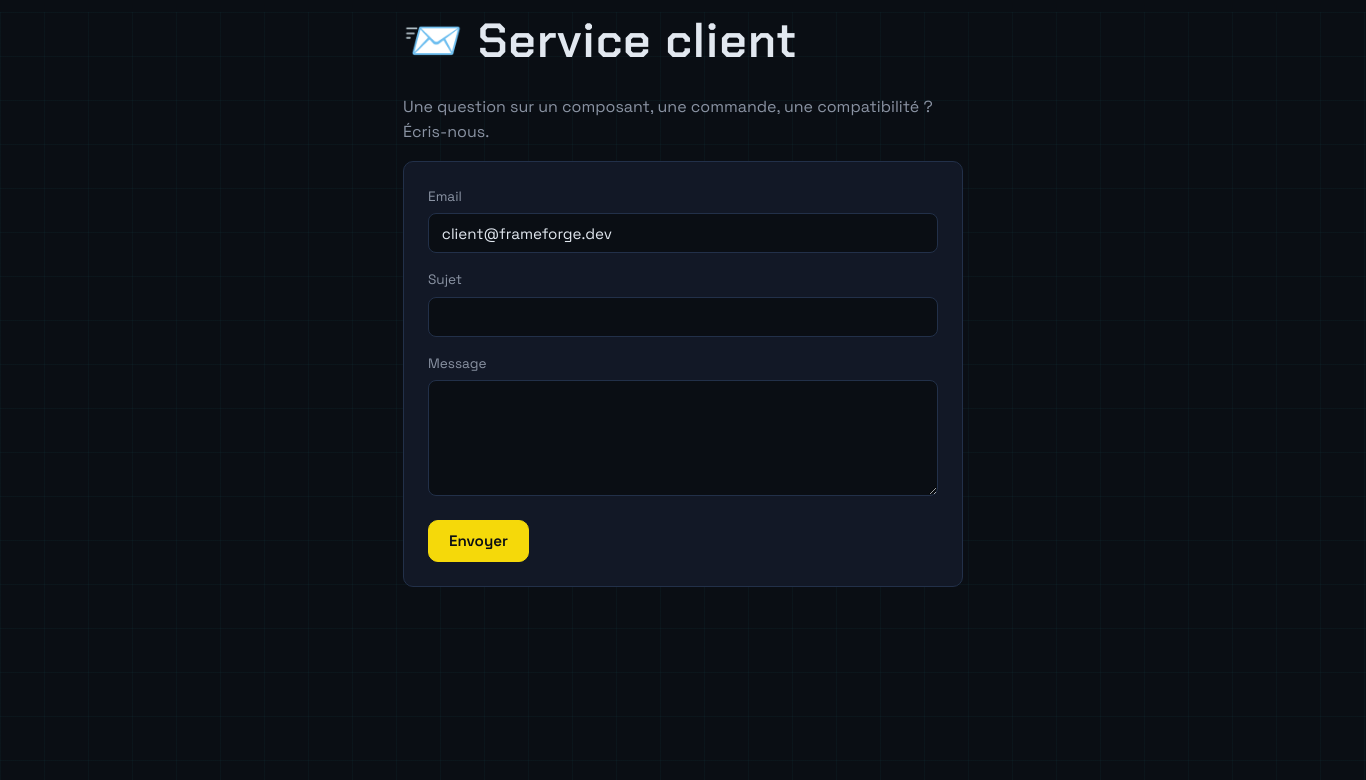
Contact › conserve le formulaire, annonce l’erreur puis l’efface à la correction
The image size is (1366, 780).
Type "Aide" into the field labelled "Sujet". click: [683, 317]
box: [428, 297, 938, 337]
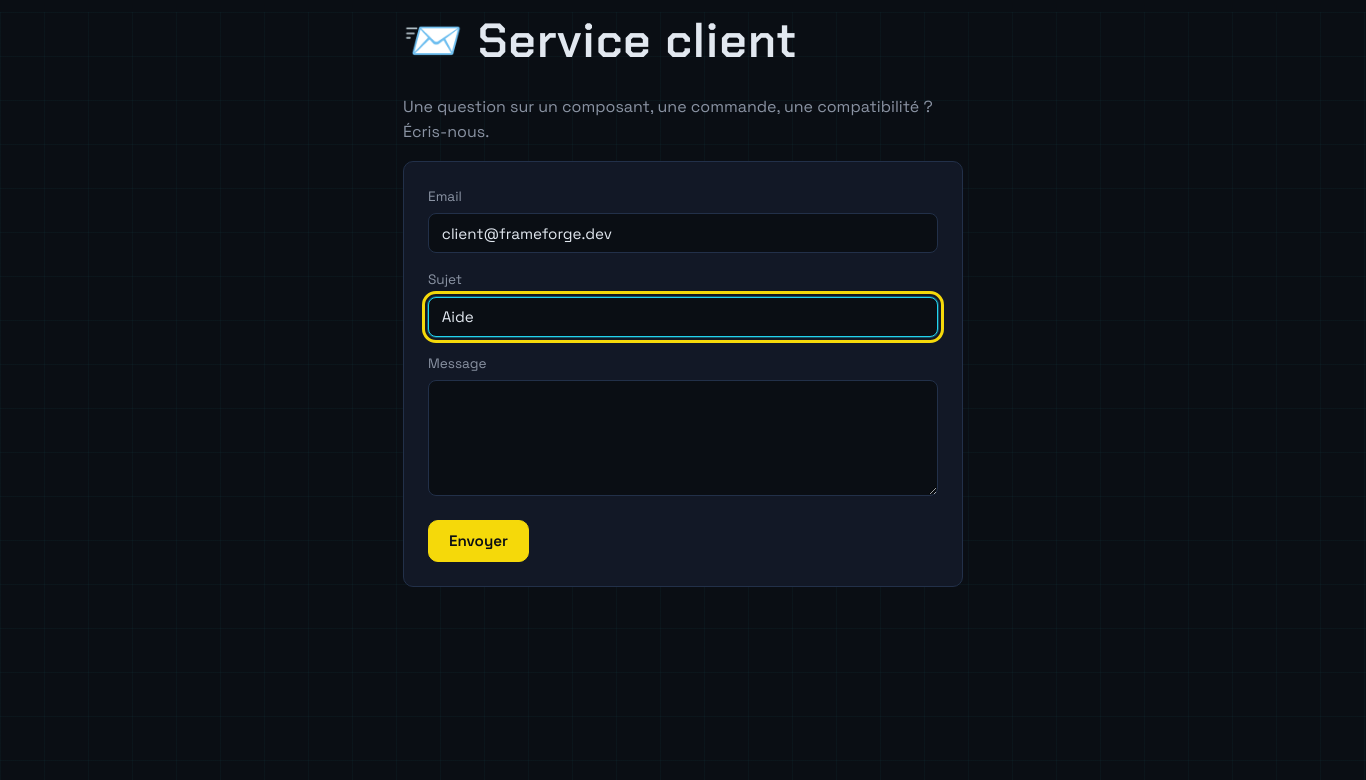
Type "Mon message important" into the text box labelled "Message". click: [683, 438]
box: [428, 380, 938, 496]
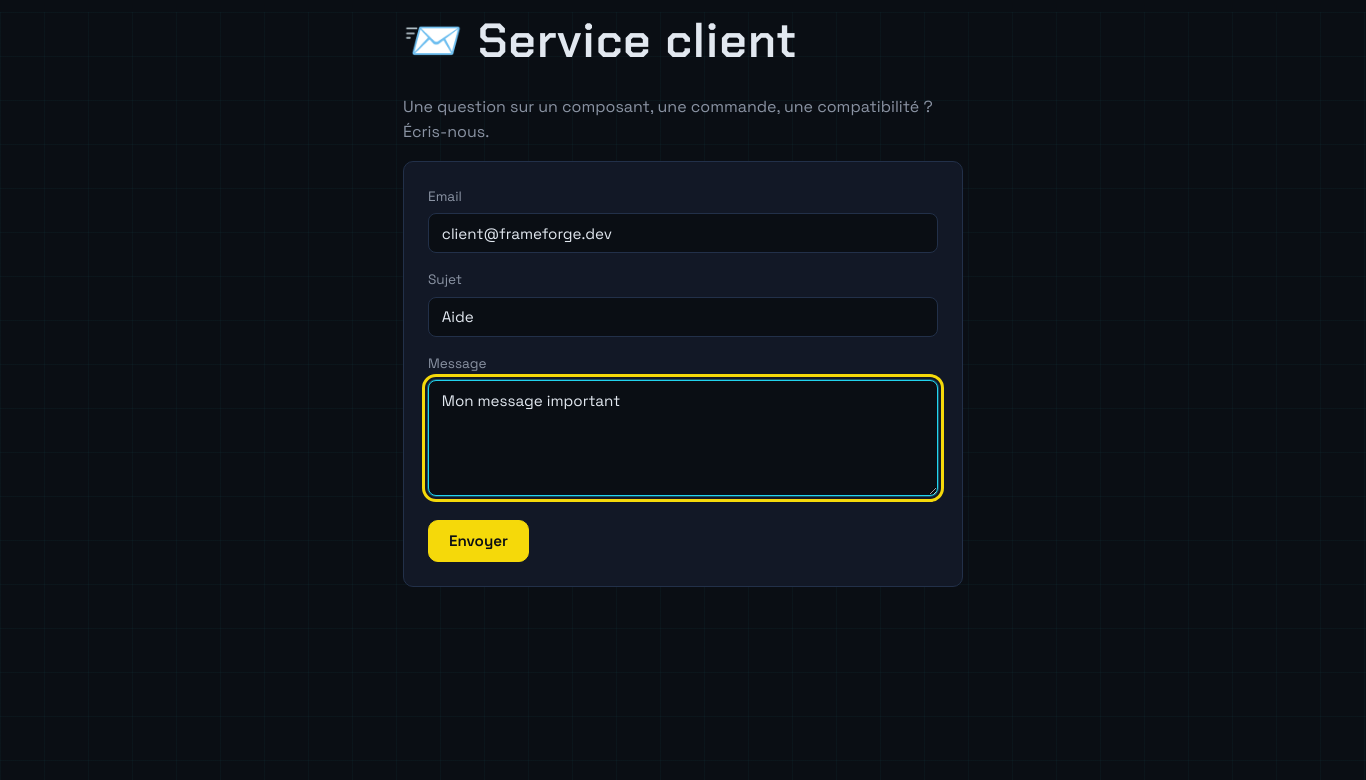
Click the button "Envoyer". click: [478, 541]
box: [428, 520, 529, 562]
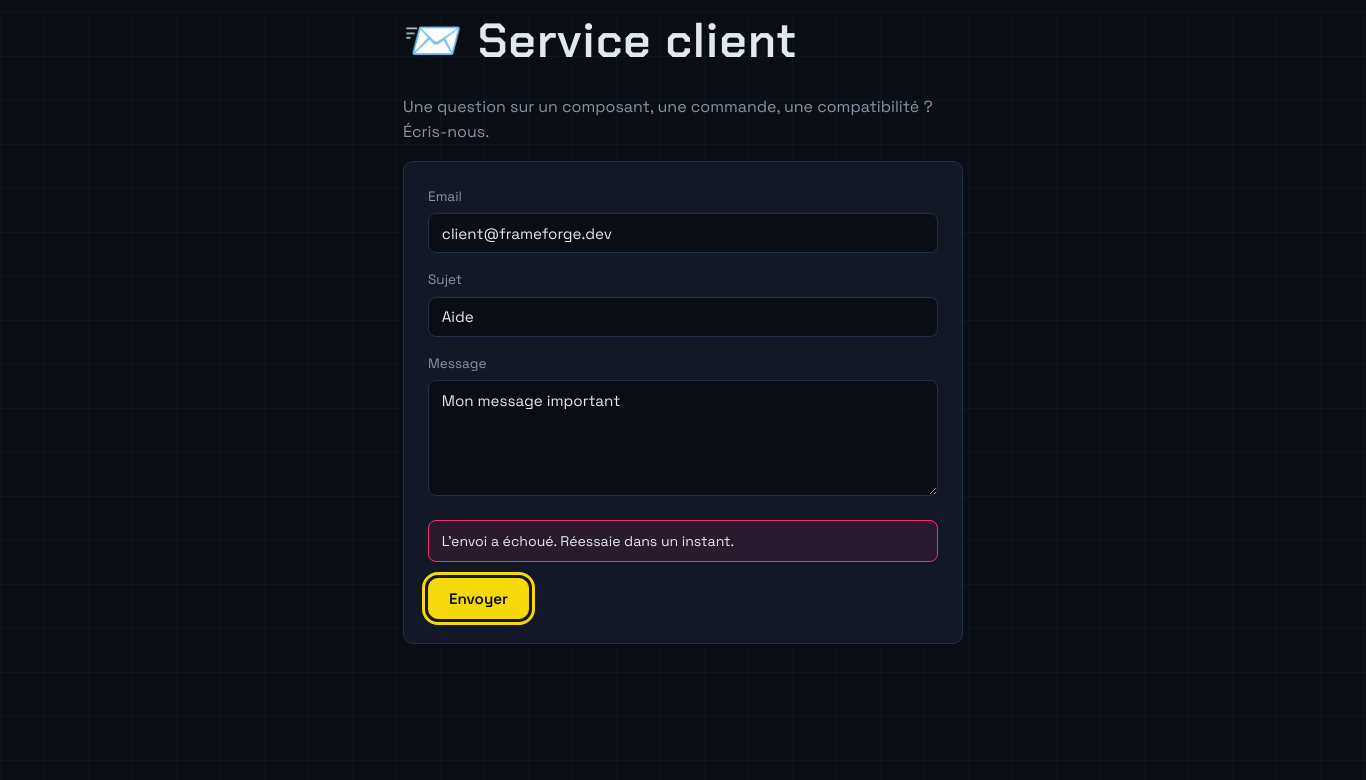
Now the message shows "L'envoi a échoué", box [442, 532, 734, 550]
Type " corrigé" into the field labelled "Sujet". click: [683, 317]
box: [428, 297, 938, 337]
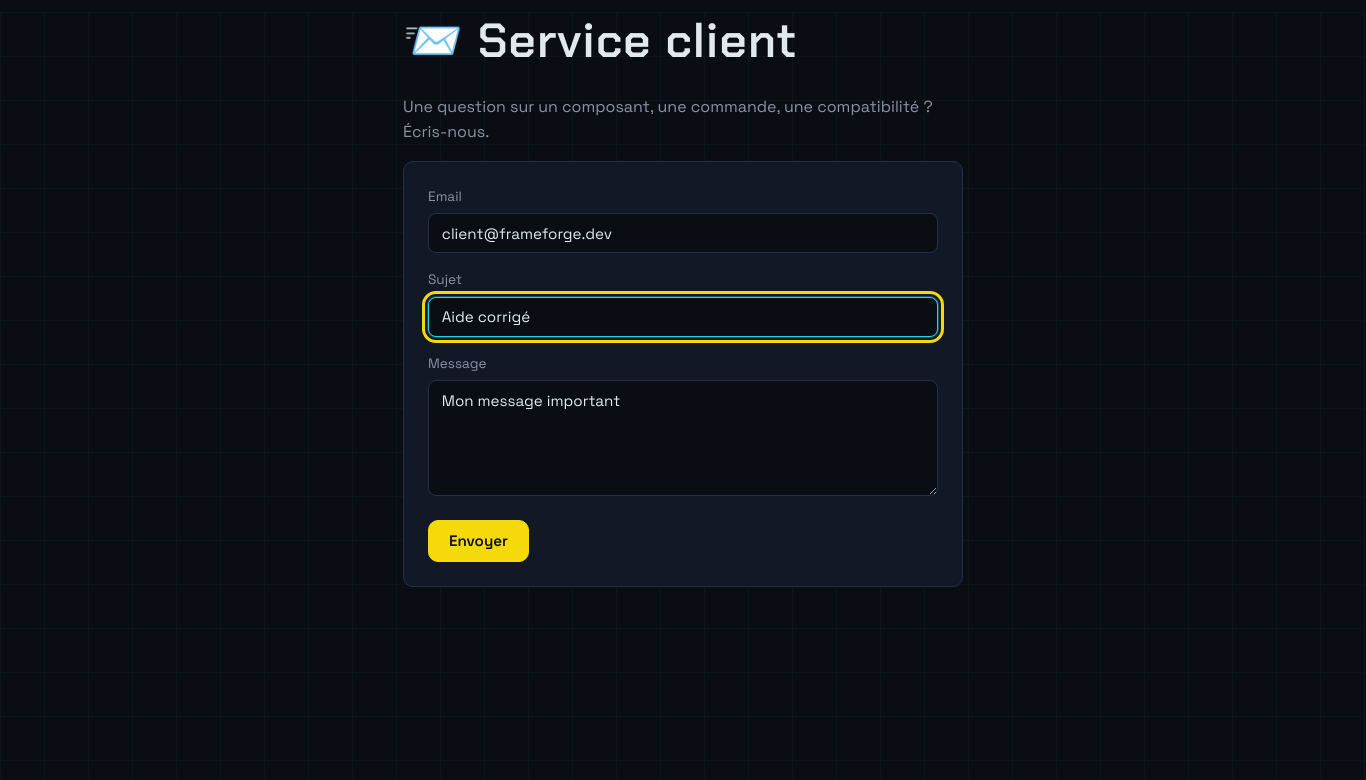
Now the message "L'envoi a échoué. Réessaie dans un instant." is gone
